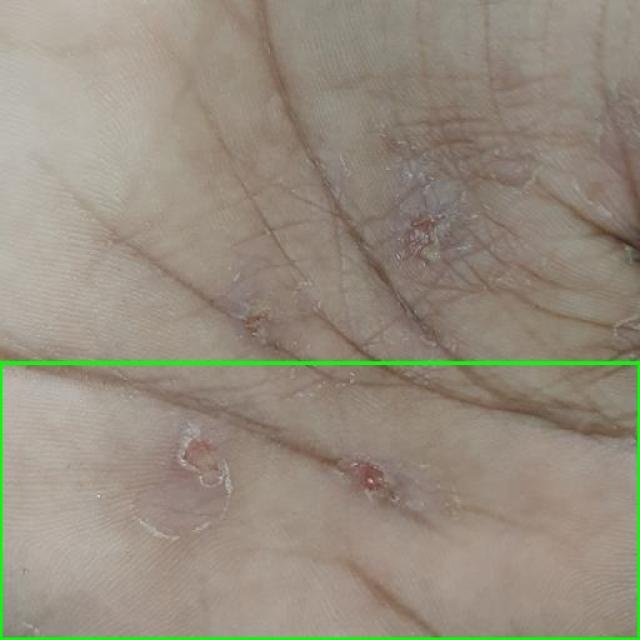Scabies: (0, 362, 639, 639)
